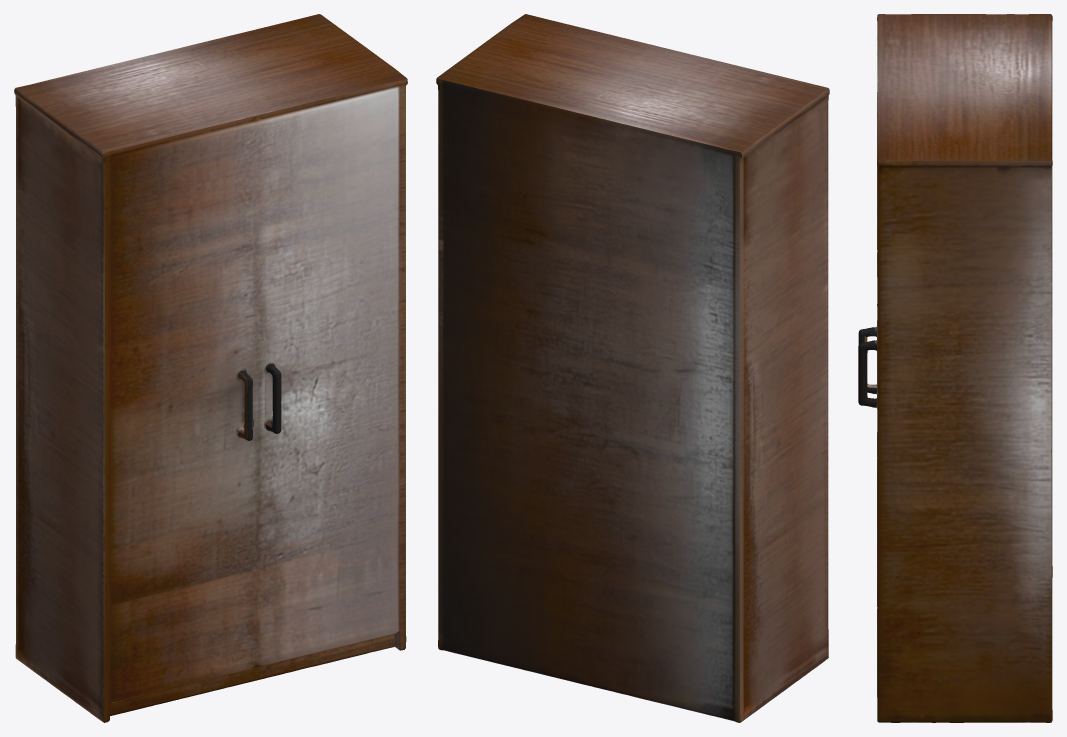
File: L_WARDROBE.industrial.glb
3 renders of one model, left to right at view 1: azimuth 30°, elevation 25°; view 2: azimuth 150°, elevation 25°; view 3: azimuth 270°, elevation 25°, orthographic.
Visible parts, largest first — view 1: geometry_0; view 2: geometry_0; view 3: geometry_0.
Part boxes in pixels (x1=…): geometry_0: x1=14, y1=14, x2=407, y2=722; geometry_0: x1=436, y1=14, x2=829, y2=722; geometry_0: x1=858, y1=14, x2=1052, y2=722.
Bounding box in the file's own units: 1.8 × 3.21 × 1.
1 material, 1 textured.
